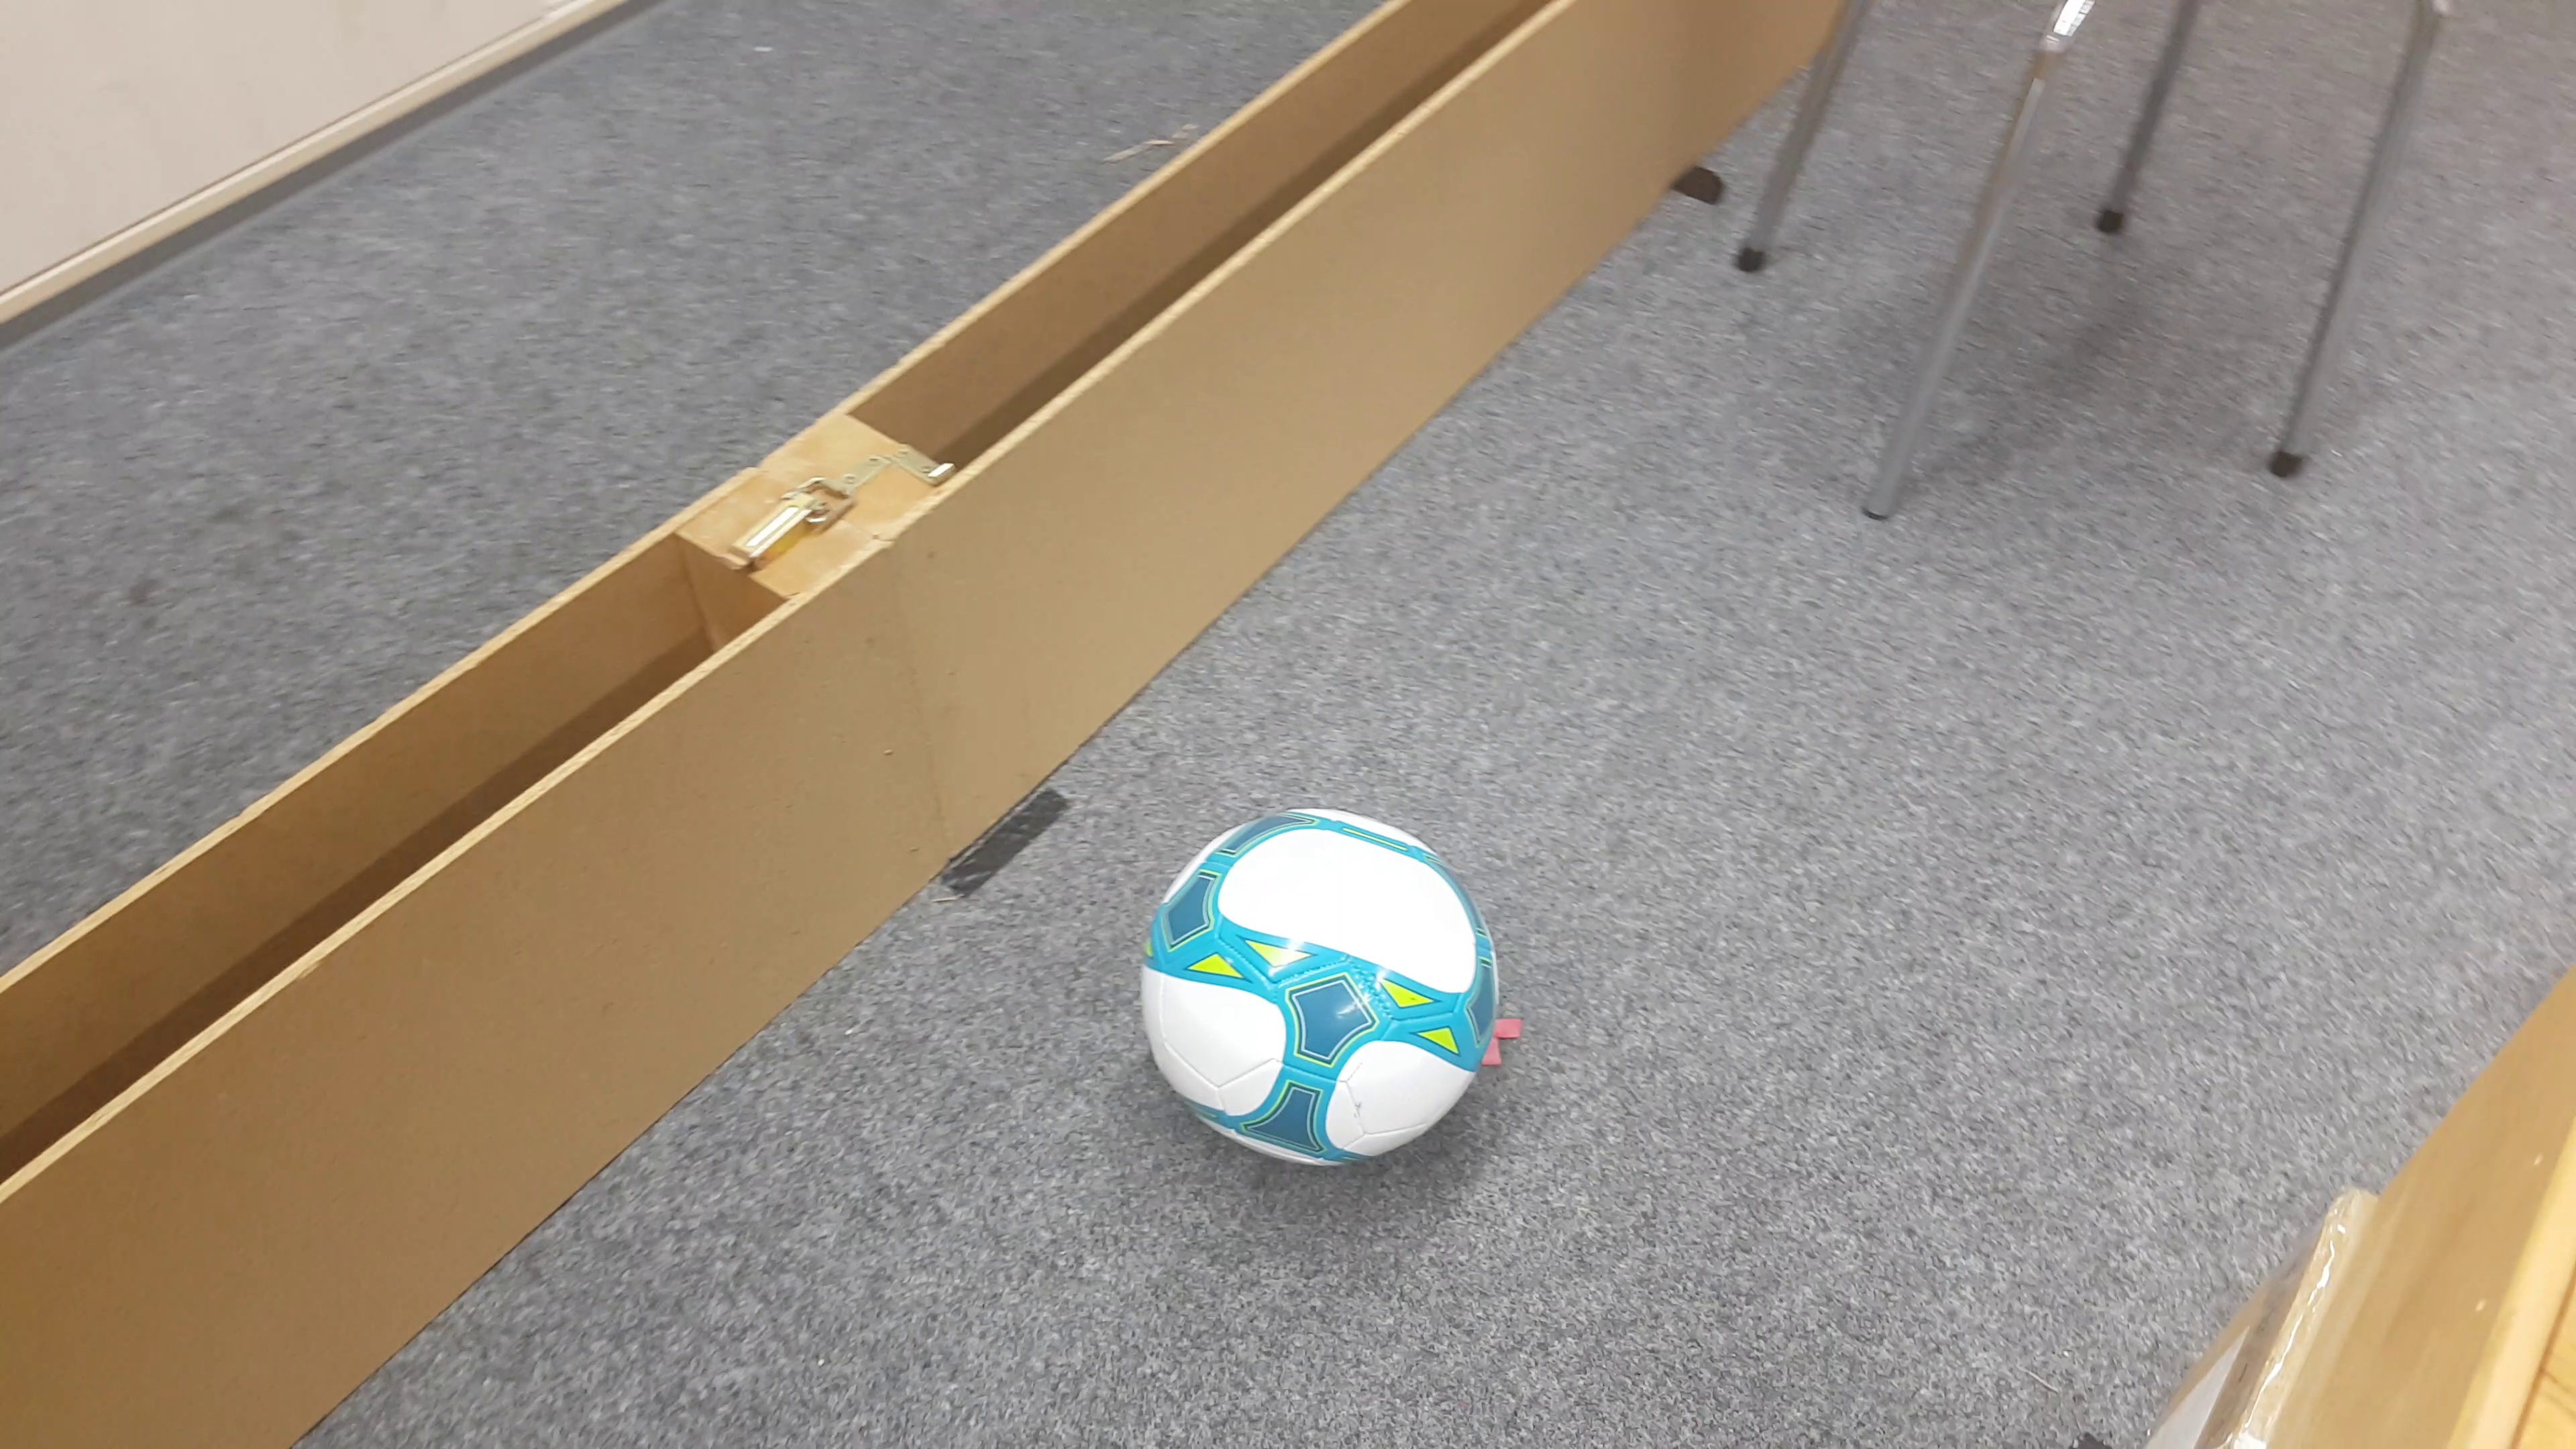kick: (1139, 810, 1499, 1171)
